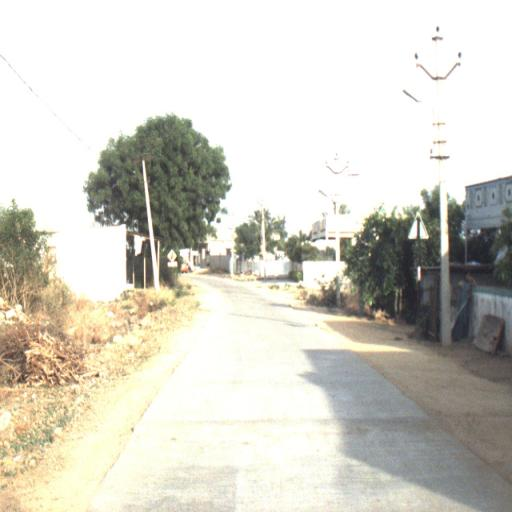street_light_0: (402, 88, 446, 152), (318, 190, 340, 214), (254, 219, 264, 234)
